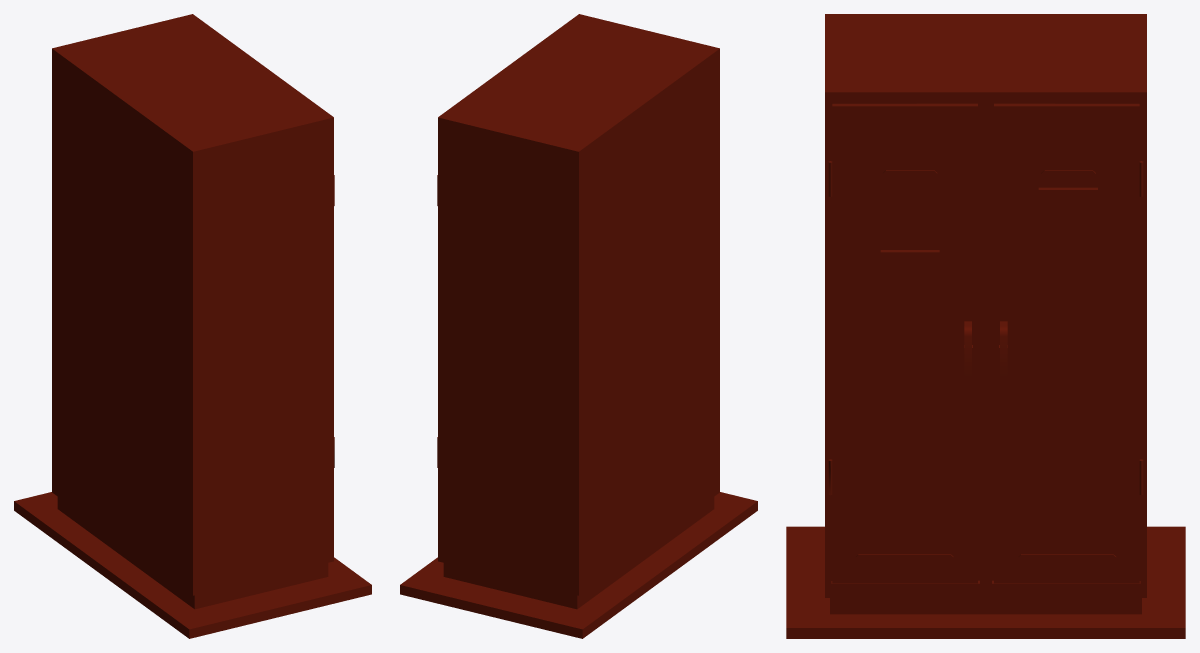
File: automation cabinet2.FBX
3 views of the same model, side by side, from view 1: azimuth 30°, elevation 25°; view 2: azimuth 150°, elevation 25°; view 3: azimuth 270°, elevation 25° (orthographic). The views are drawn at different scales.
Visible parts, largest first — view 1: automation cabinet2; view 2: automation cabinet2; view 3: automation cabinet2.
Boxes of the visible parts, <box> form: automation cabinet2: <box>14,14,371,638</box>; automation cabinet2: <box>400,14,757,638</box>; automation cabinet2: <box>786,14,1185,638</box>.
Size of the model in its own units: 71.17 by 175 by 118.
